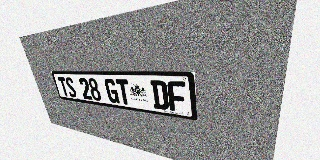2: (78, 78, 92, 100)
8: (87, 78, 102, 101)
D: (150, 80, 169, 110)
F: (167, 81, 187, 113)
G: (104, 78, 120, 104)
S: (64, 77, 78, 98)
T: (115, 79, 132, 105), (57, 77, 70, 97)
